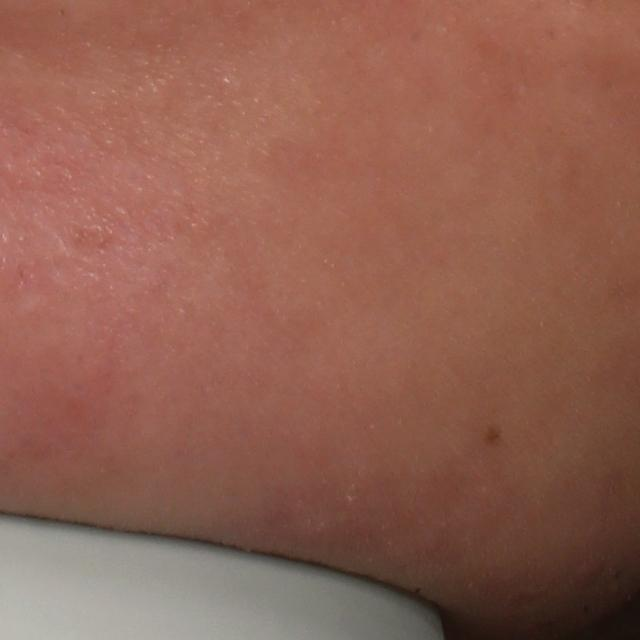nevus: (484, 422, 505, 448)
